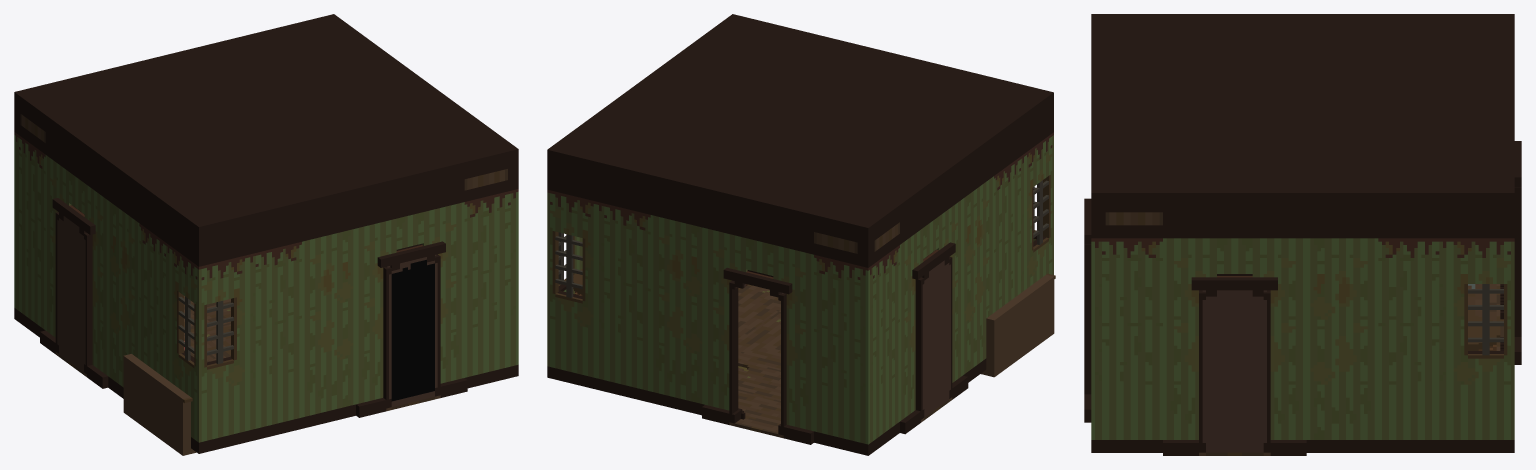
File: mansion-0.obj
3 views of the same model, side by side, from view 1: azimuth 30°, elevation 25°; view 2: azimuth 150°, elevation 25°; view 3: azimuth 270°, elevation 25° (orthographic). The views are drawn at different scales.
Size of the model in its own units: 12.3 by 8.2 by 12.2.
Materials: 1 (1 with a texture image).
